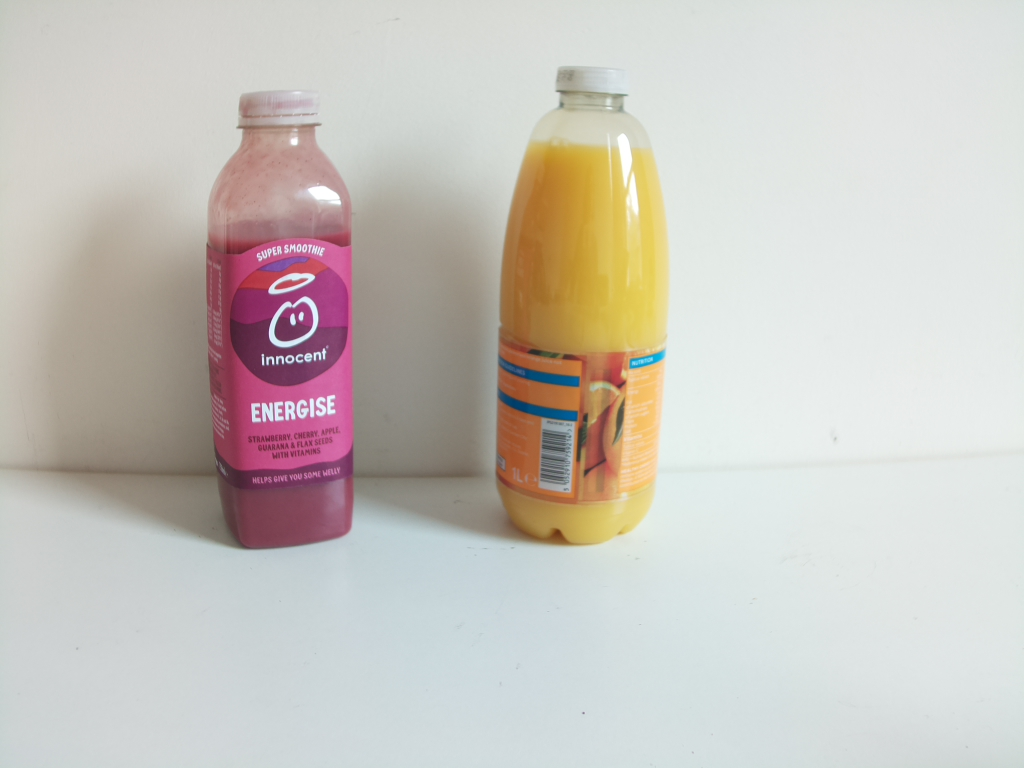juice: (491, 63, 668, 549), (208, 84, 363, 554)
